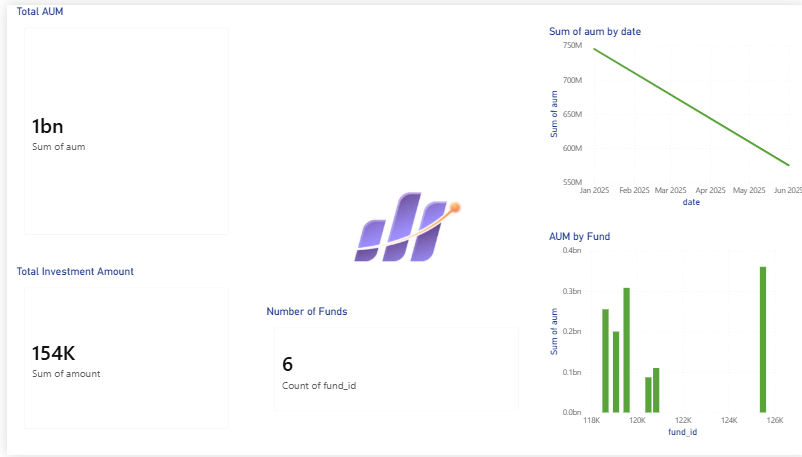

This screenshot's page, from the dashboard's own definition file:
{"tool":"powerbi","page":{"name":"Industry Overview","canvas":[1280,720],"ordinal":0},"visuals":[{"type":"cardVisual","title":"Total AUM","fields":{"Data":["Sum(aum_clean.aum)"]},"box":[10,0,362,386],"z":0},{"type":"cardVisual","title":"Total Investment Amount","fields":{"Data":["Sum(investor_transactions_clean.amount)"]},"box":[10,416,362,280],"z":1000},{"type":"cardVisual","title":"Number of Funds","fields":{"Data":["Count(scheme_performance_clean.fund_id)"]},"box":[410,480,426,188],"z":2000},{"type":"lineChart","fields":{"Y":["Sum(aum_clean.aum)"],"Category":["aum_clean.date"]},"box":[862,32,418,296],"z":3000},{"type":"clusteredColumnChart","title":"AUM by Fund","fields":{"Category":["aum_clean.fund_id"],"Y":["Sum(aum_clean.aum)"]},"box":[862,360,386,336],"z":4000}]}

Visuals, with their boxes in screenshot pixels (x1, y1, x2, y2), scaled from the page's 1280x720 canvas onto the 802x457 screenshot:
"Total AUM" cardVisual: (6, 0, 233, 245)
"Total Investment Amount" cardVisual: (6, 264, 233, 442)
"Number of Funds" cardVisual: (257, 305, 524, 424)
lineChart - Sum(aum_clean.aum) x aum_clean.date: (540, 20, 801, 208)
"AUM by Fund" clusteredColumnChart: (540, 228, 782, 442)
